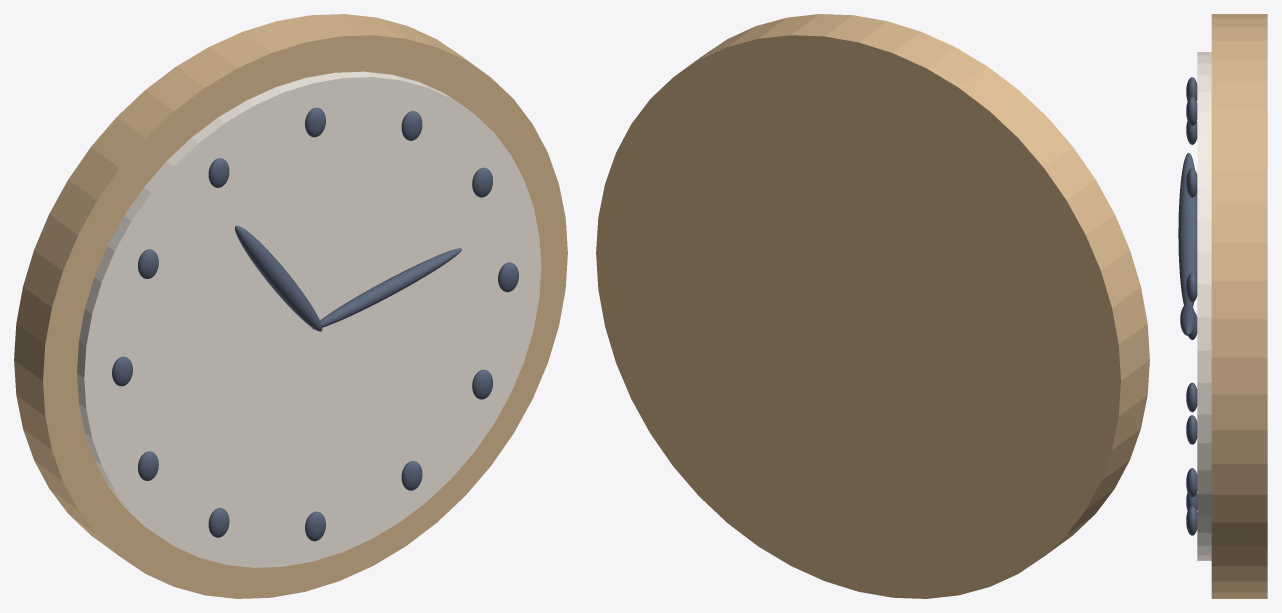
The model's file is clock.glb.
The picture shows the model from 3 angles, left to right: view 1: azimuth 30°, elevation 25°; view 2: azimuth 150°, elevation 25°; view 3: azimuth 270°, elevation 25°; orthographic projection. The views are drawn at different scales.
Parts seen in each view (by area): view 1: face, body, hand1, hand2; view 2: body; view 3: body, face, hand1, hand2, tick3, tick0, tick1, tick5, tick7, tick2, tick4, tick11 (+2 smaller).
Part boxes in pixels (bbox=[...]): face: bbox=[77, 71, 541, 567]; body: bbox=[14, 14, 567, 598]; hand1: bbox=[235, 225, 322, 331]; hand2: bbox=[312, 248, 461, 329]; body: bbox=[596, 14, 1149, 598]; body: bbox=[1211, 14, 1267, 598]; face: bbox=[1197, 52, 1211, 560]; hand1: bbox=[1178, 153, 1197, 306]; hand2: bbox=[1180, 303, 1195, 335]; tick3: bbox=[1186, 382, 1197, 412]; tick0: bbox=[1186, 96, 1197, 125]; tick1: bbox=[1186, 168, 1197, 197]; tick5: bbox=[1186, 506, 1197, 535]; tick7: bbox=[1186, 415, 1197, 444]; tick2: bbox=[1186, 273, 1197, 302]; tick4: bbox=[1186, 468, 1197, 497]; tick11: bbox=[1186, 77, 1197, 101].
Bounding box in the file's own units: 0.68 × 0.68 × 0.1035.
